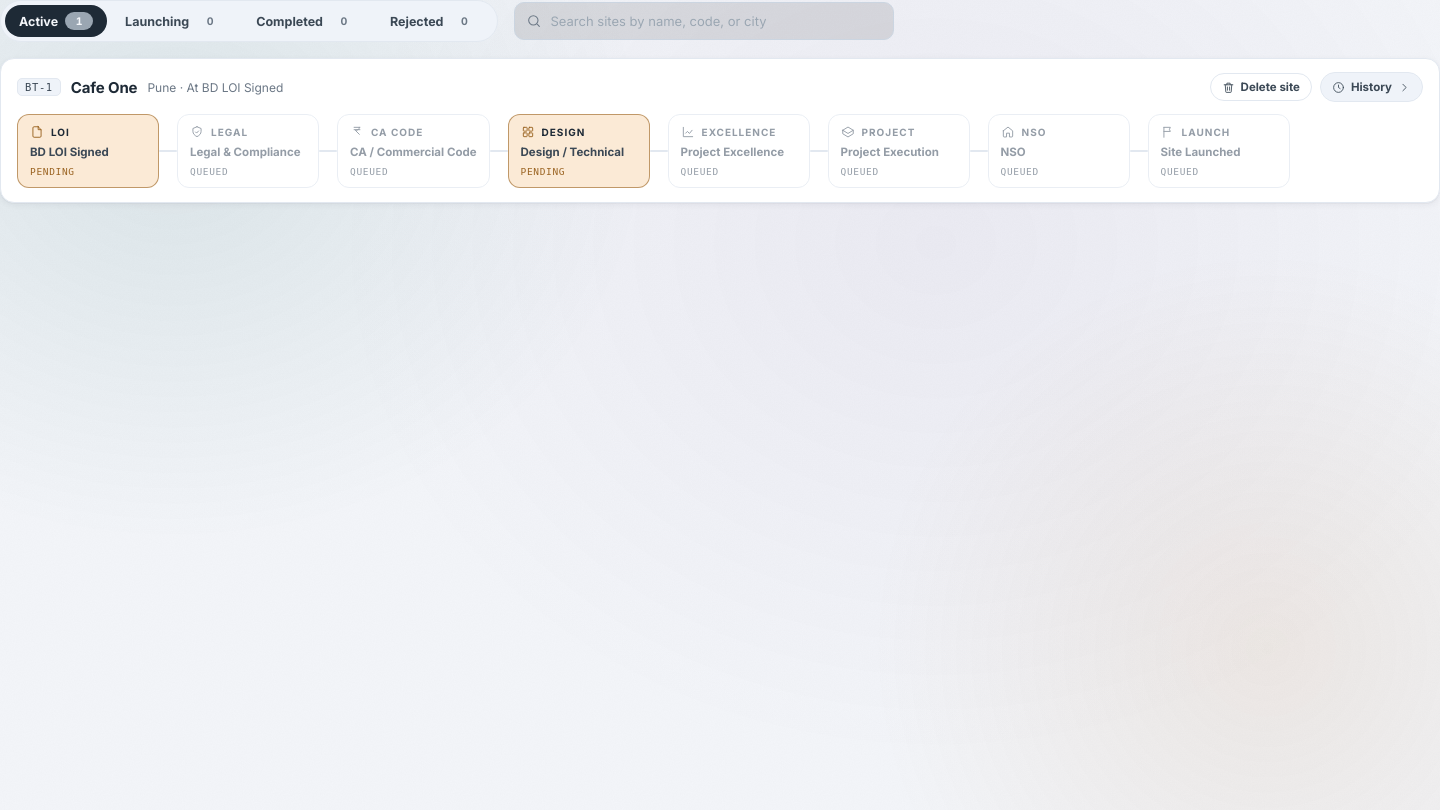
it: undo button visibility › is absent when the admin has nothing undoable
The width and height of the screenshot is (1440, 810).
Click the text "Cafe One". click: (104, 87)
box: [71,78,137,96]
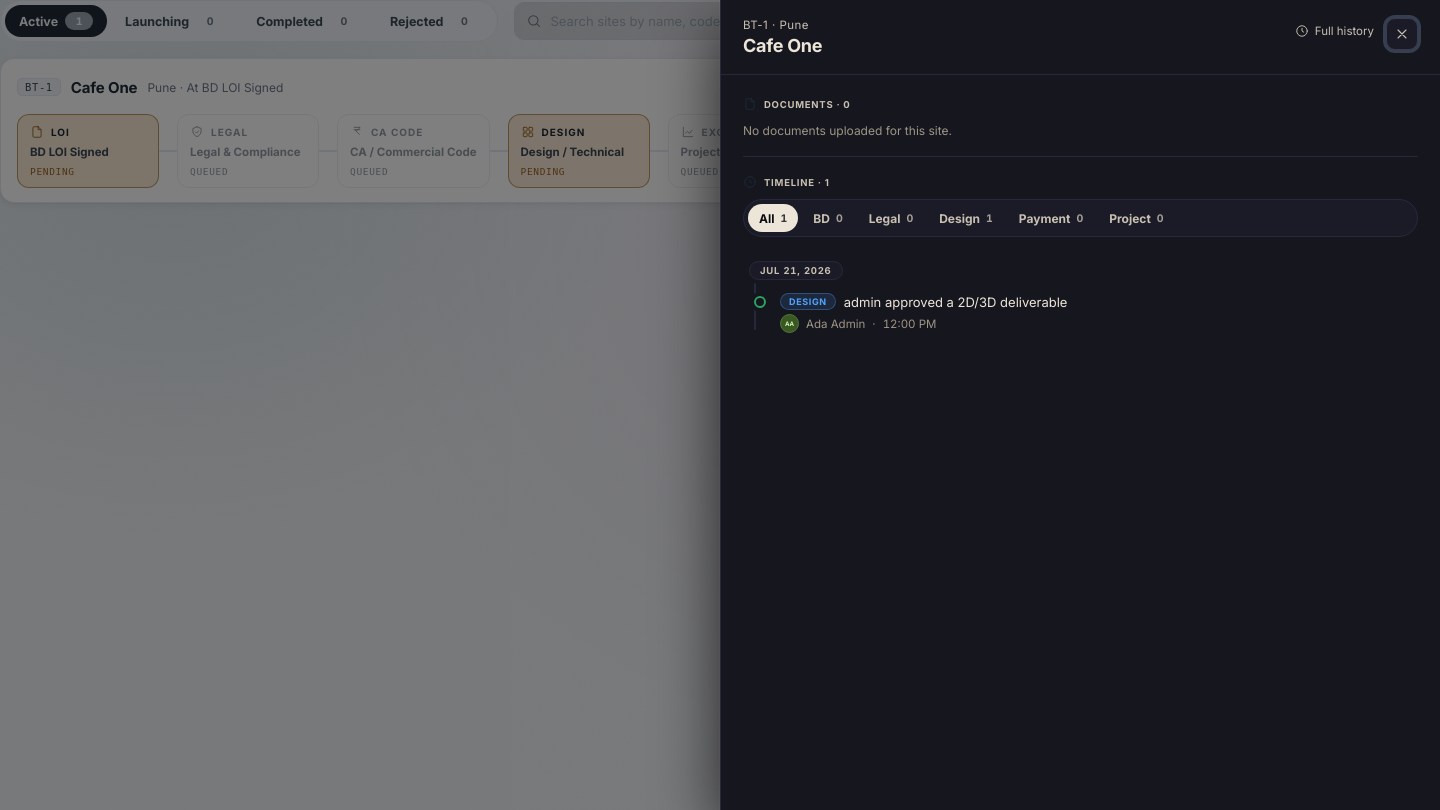
Check: the text "admin approved a 2D/3D deliverable" is shown, box [844,294,1068,310]
